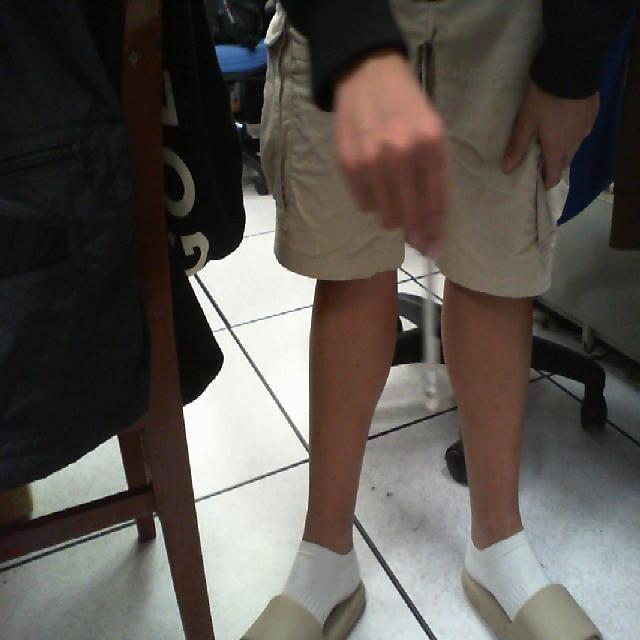Pen: (405, 225, 460, 428)
